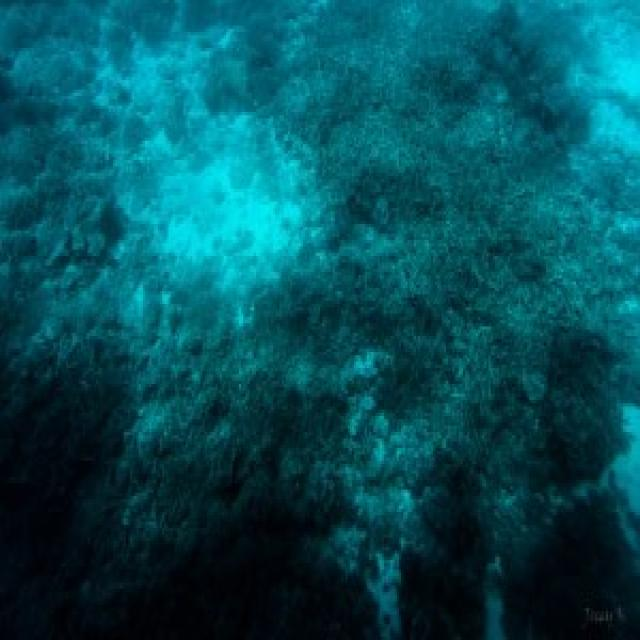Bleached: (120, 107, 323, 292)
